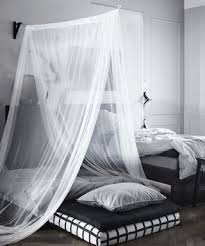bed-matress: (3, 163, 181, 246), (89, 126, 205, 206)
